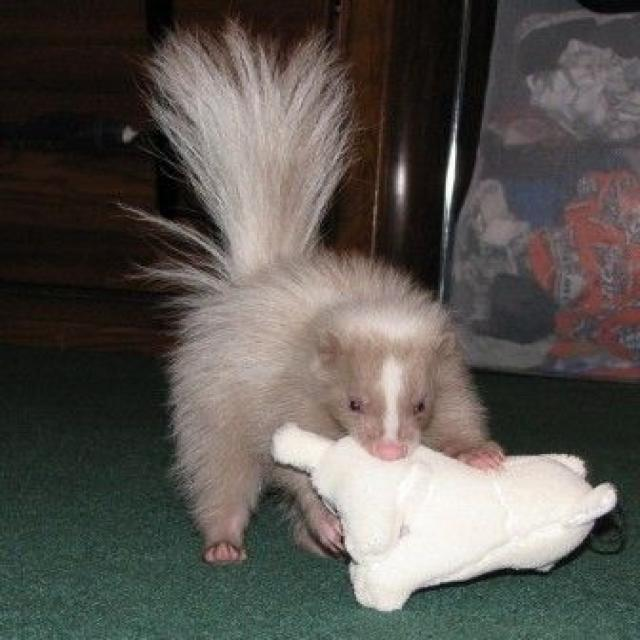Skunk: (104, 6, 556, 602)
